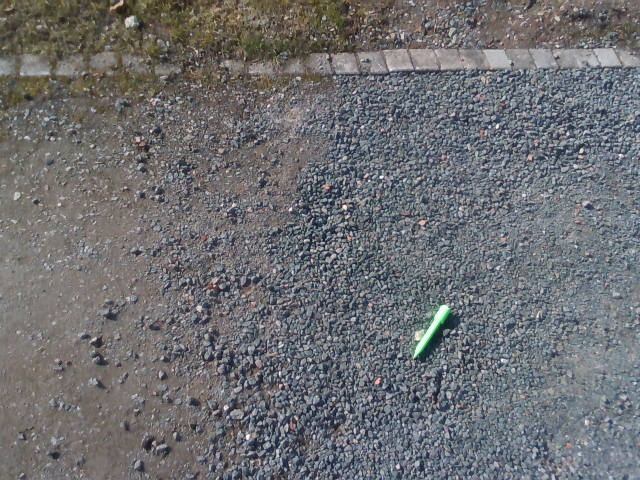Probe: (409, 301, 454, 362)
